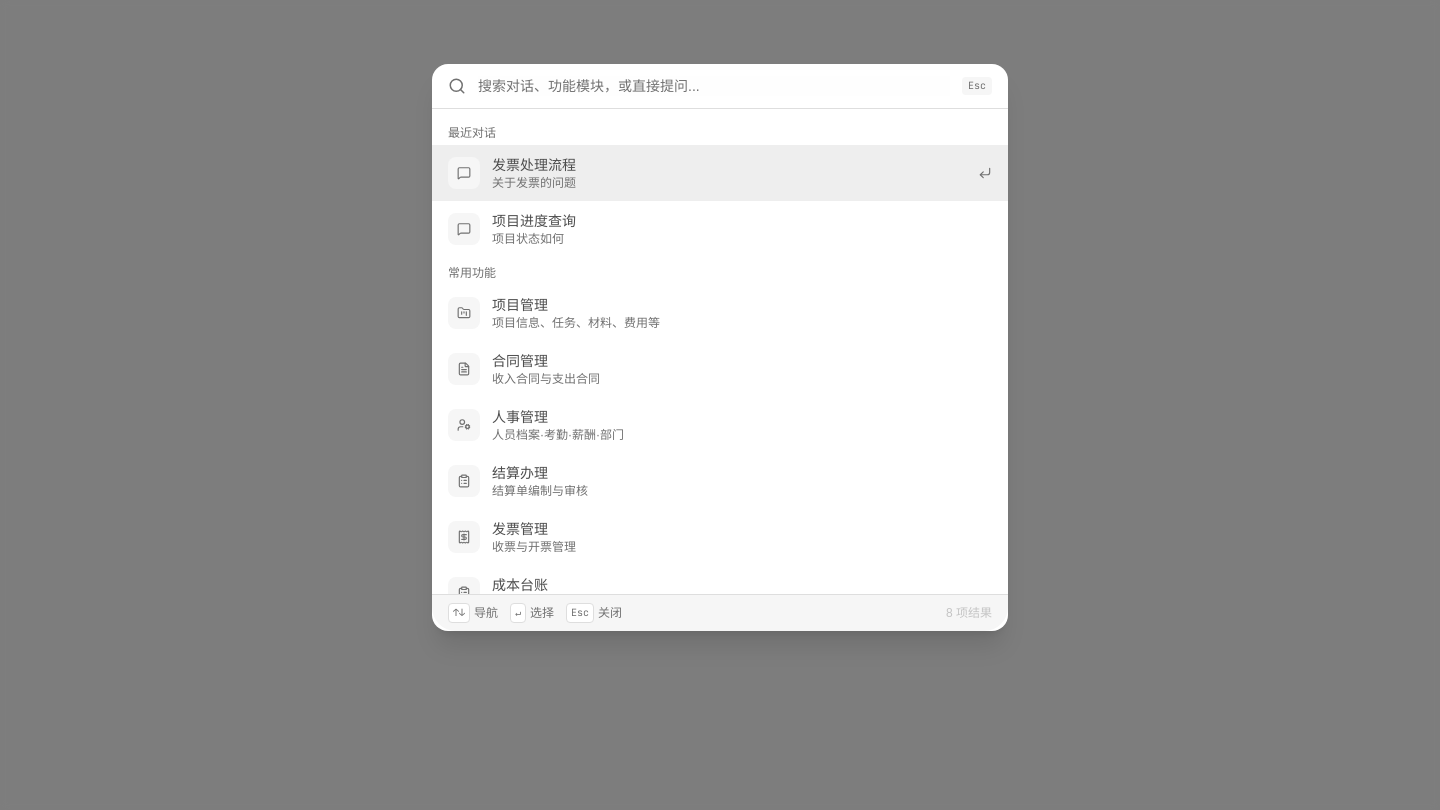
Scenario: AgentSearch › 输入关键词 → 出现提问项 + 命中模块 + 命中历史对话
The width and height of the screenshot is (1440, 810).
In the field with placeholder "搜索对话、功能模块，或直接提问...": (714, 86) 478,76 -> 950,96, type "发票"
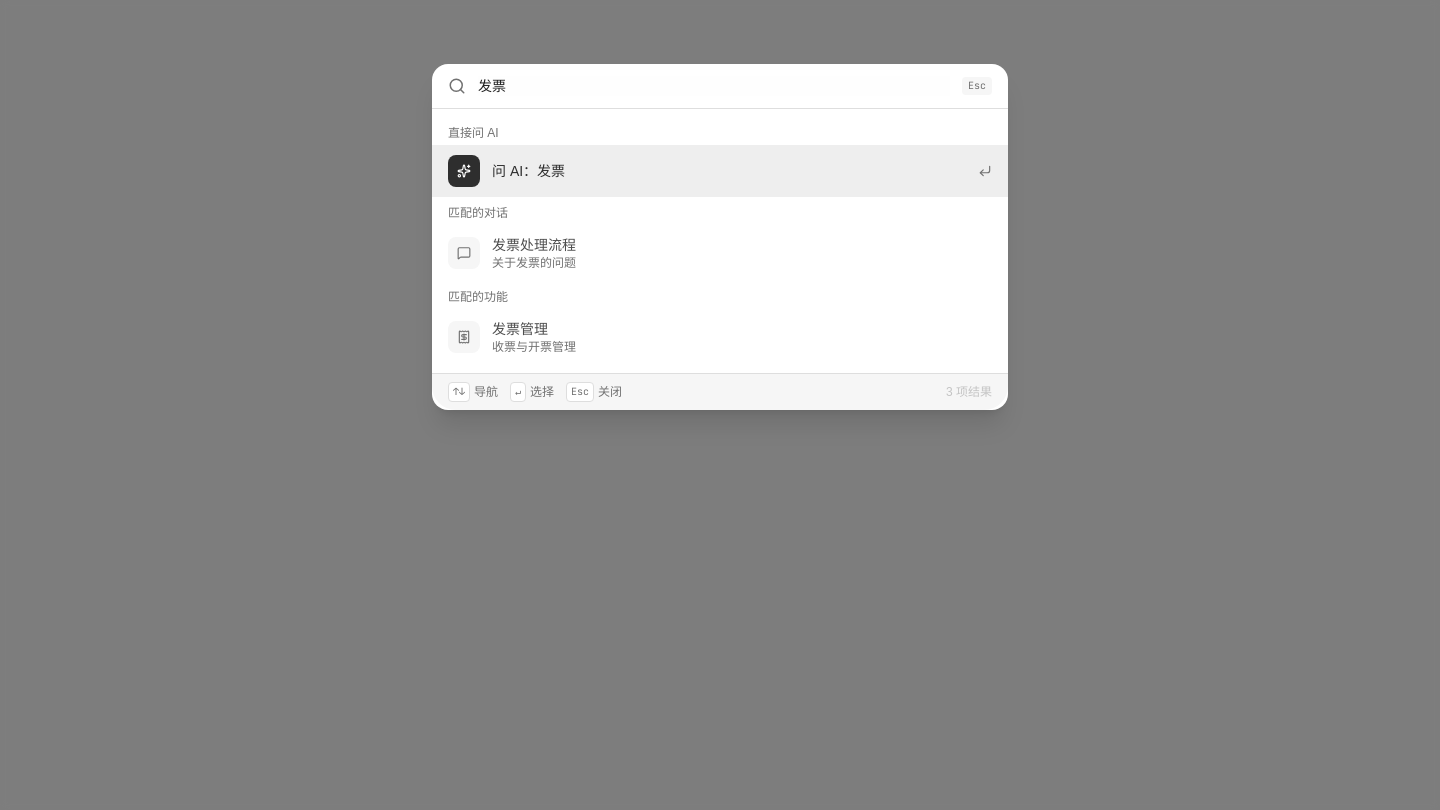
Expected: the text "问 AI：发票" is shown, 492,163 -> 565,179
Expected: the text "发票管理" is shown, 492,321 -> 548,337
Expected: the text "发票处理流程" is shown, 492,237 -> 576,253
